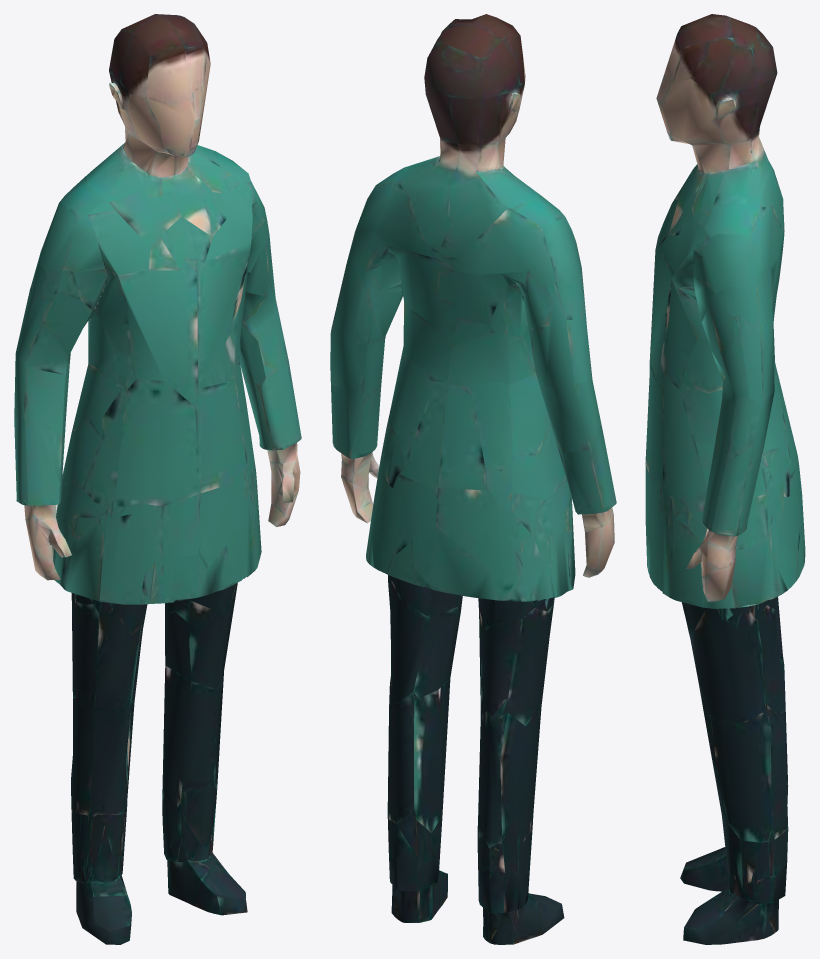
Rendered from pieton.glb.
The picture shows the model from 3 angles, left to right: view 1: azimuth 30°, elevation 25°; view 2: azimuth 150°, elevation 25°; view 3: azimuth 270°, elevation 25°; orthographic projection.
Size of the model in its own units: 0.6168 by 1.9 by 0.309.
1 material, 1 textured.
